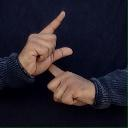hand: (17, 10, 73, 77), (47, 64, 97, 105)
